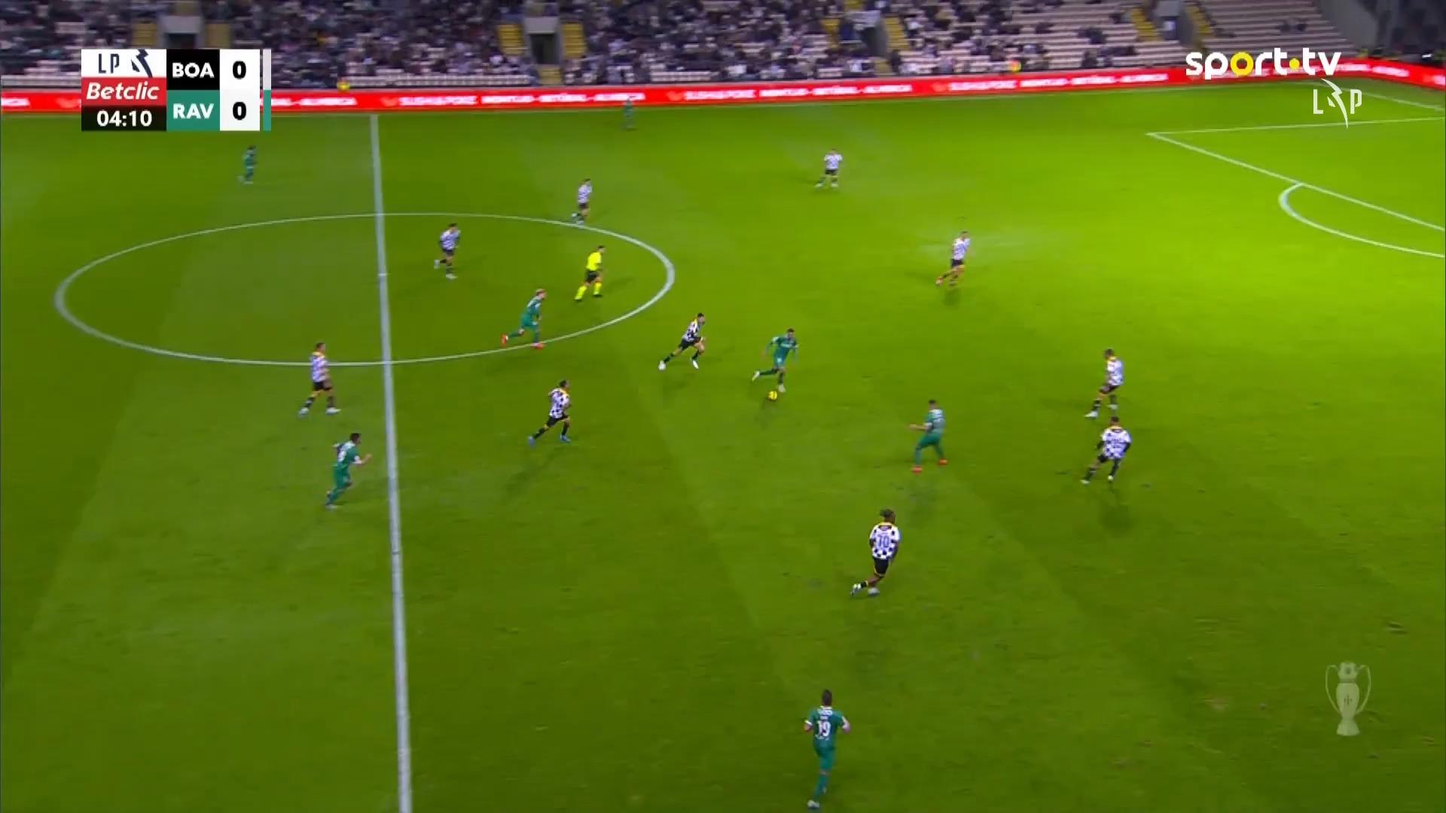ball: (767, 390, 777, 400)
player: (801, 688, 850, 808), (850, 507, 901, 597), (322, 431, 371, 509), (1080, 416, 1131, 484), (297, 341, 340, 416), (750, 327, 798, 393), (526, 379, 573, 446), (1083, 347, 1124, 420), (908, 398, 947, 473), (657, 311, 706, 370), (500, 288, 547, 349), (934, 229, 971, 288), (433, 221, 461, 279), (814, 148, 842, 188), (572, 177, 592, 223), (240, 144, 257, 184), (621, 95, 635, 129)
referee: (573, 243, 606, 301)
